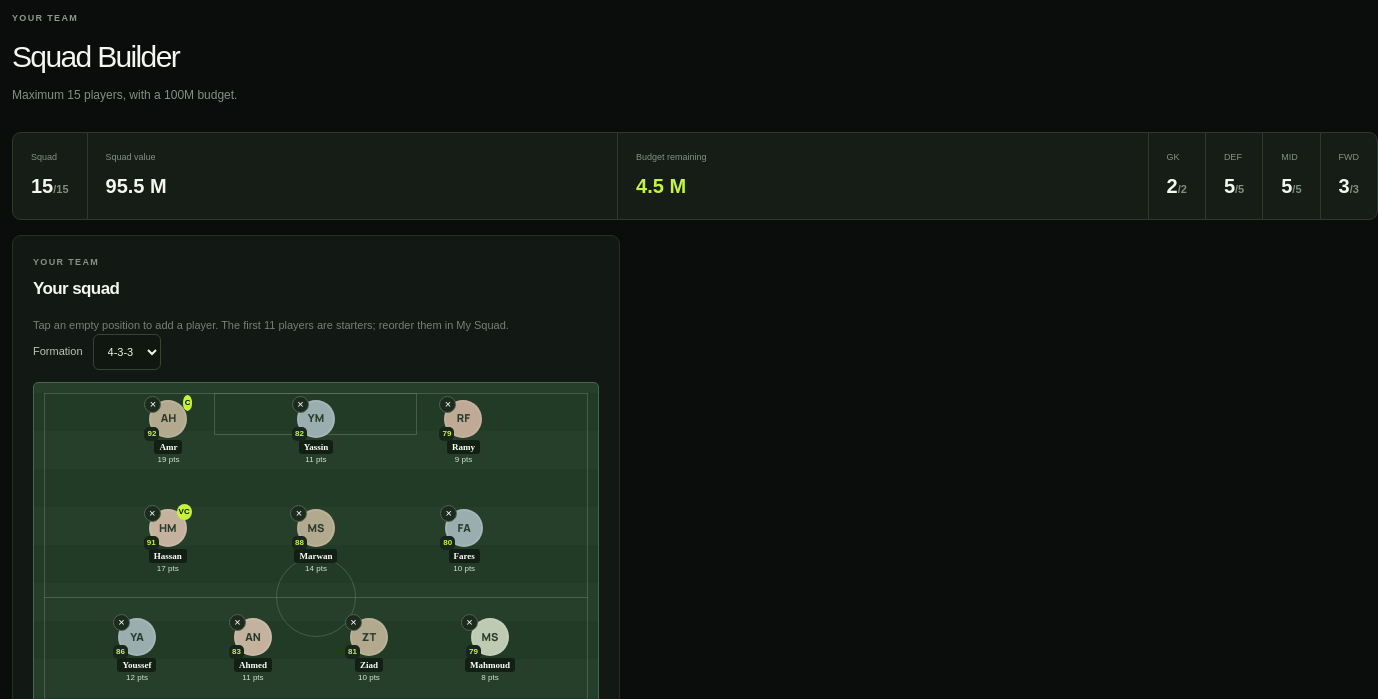
Test case: a squad player can still be removed without the roster list › actually removes the player when clicked
Expected: the element showing "15/15" is shown, [31,171,68,201]
Click the 1st button "×".
click(153, 404)  # box [144,396,162,412]
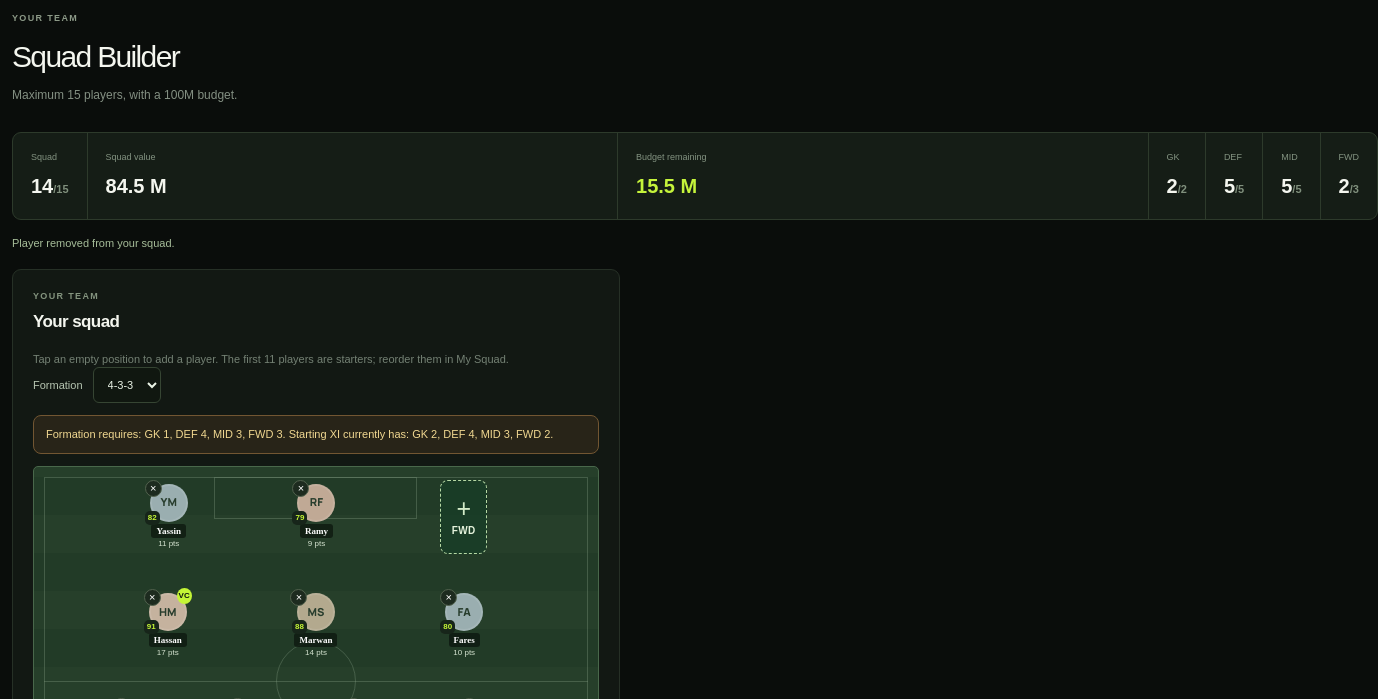
Expected: the element showing "14/15" is shown, [31,171,68,201]
